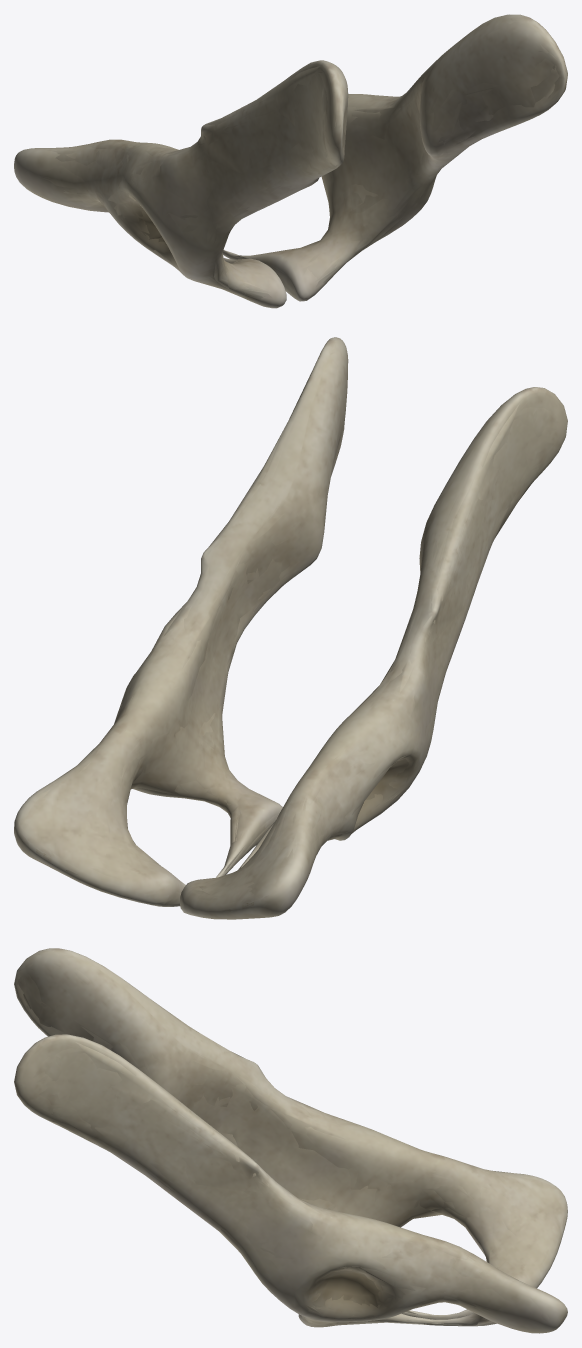
Rendered from Coxae.fbx.
3 views of the same model, one above another, from view 1: azimuth 30°, elevation 25°; view 2: azimuth 150°, elevation 25°; view 3: azimuth 270°, elevation 25° (orthographic). The views are drawn at different scales.
Parts seen in each view (by area): view 1: Coxae high, Coxae low, Coxae; view 2: Coxae high, Coxae, Coxae low; view 3: Coxae high, Coxae low, Coxae.
Boxes of the visible parts, <box> form: Coxae high: <box>14,14,567,308</box>; Coxae low: <box>47,66,559,297</box>; Coxae: <box>15,19,566,306</box>; Coxae high: <box>14,337,567,919</box>; Coxae: <box>15,338,565,919</box>; Coxae low: <box>48,378,548,895</box>; Coxae high: <box>14,948,567,1333</box>; Coxae low: <box>19,976,540,1325</box>; Coxae: <box>14,952,567,1331</box>.
Size of the model in its own units: 3.87 by 4.86 by 7.37.
Materials: 1 (1 with a texture image).
